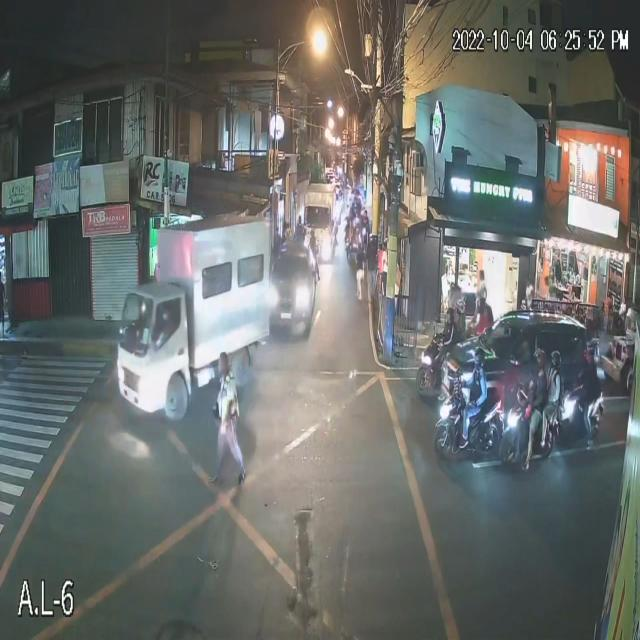Full-Faced: (472, 347, 488, 374)
Half-Faced: (546, 347, 562, 372), (532, 347, 546, 371)
